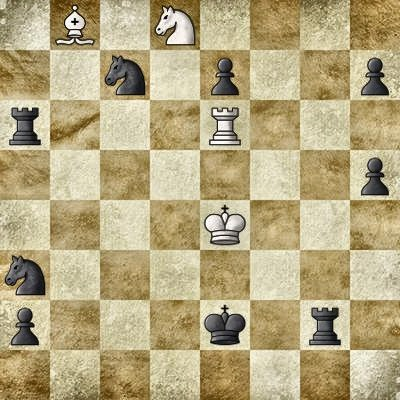black-king: (200, 300, 250, 350)
black-knight: (100, 50, 150, 100), (0, 250, 50, 300)
black-pawn: (200, 50, 250, 100), (350, 50, 400, 100), (350, 150, 400, 200), (0, 300, 50, 350)
black-rook: (0, 100, 50, 150), (300, 300, 350, 350)
white-bishop: (50, 0, 100, 50)
white-king: (200, 200, 250, 250)
white-knight: (150, 0, 200, 50)
white-rook: (200, 100, 250, 150)
